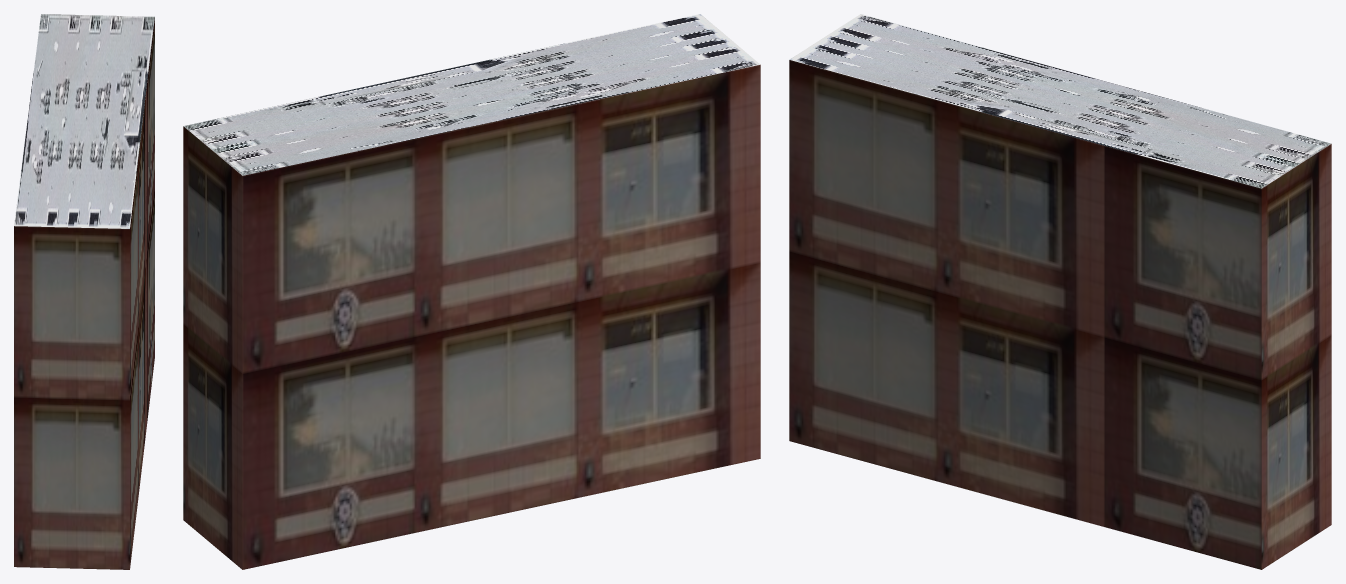
Rendered from ResTex__913.fbx.
3 views of the same model, side by side, from view 1: azimuth 30°, elevation 25°; view 2: azimuth 150°, elevation 25°; view 3: azimuth 270°, elevation 25° (orthographic). The views are drawn at different scales.
Parts seen in each view (by area): view 1: CityEngineMaterial_13_m, CityEngineMaterial_m; view 2: CityEngineMaterial_13_m, CityEngineMaterial_m; view 3: CityEngineMaterial_13_m, CityEngineMaterial_m.
Boxes of the visible parts, x1,y1,x2,y2 form: CityEngineMaterial_13_m: [14, 18, 154, 569]; CityEngineMaterial_m: [14, 14, 154, 228]; CityEngineMaterial_13_m: [183, 64, 760, 569]; CityEngineMaterial_m: [183, 14, 759, 175]; CityEngineMaterial_13_m: [789, 60, 1331, 569]; CityEngineMaterial_m: [789, 14, 1331, 188].
Size of the model in its own units: 5.9 by 6 by 7.74.
2 materials, 2 textured.
